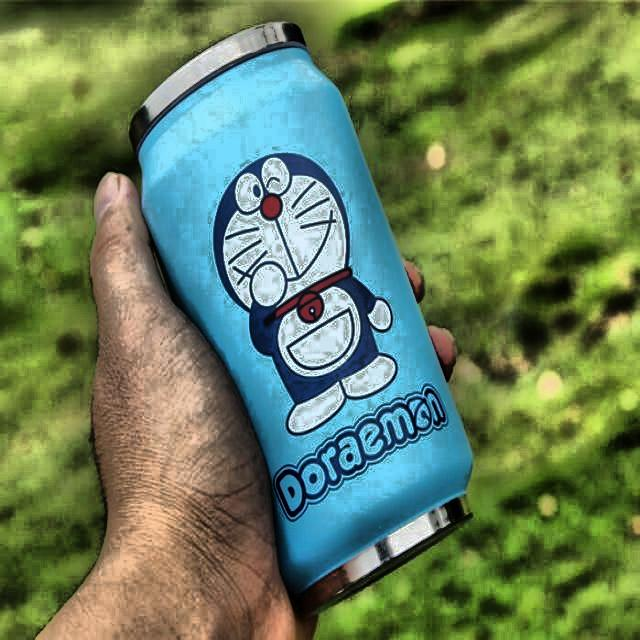can: (127, 9, 481, 617)
